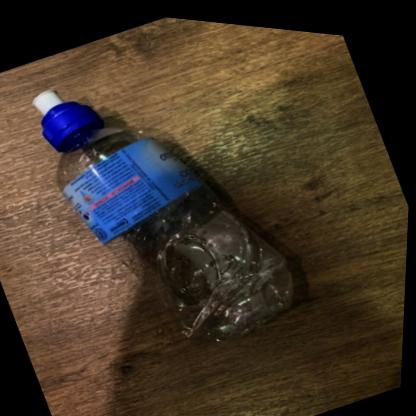Plastic: (34, 89, 295, 336)
